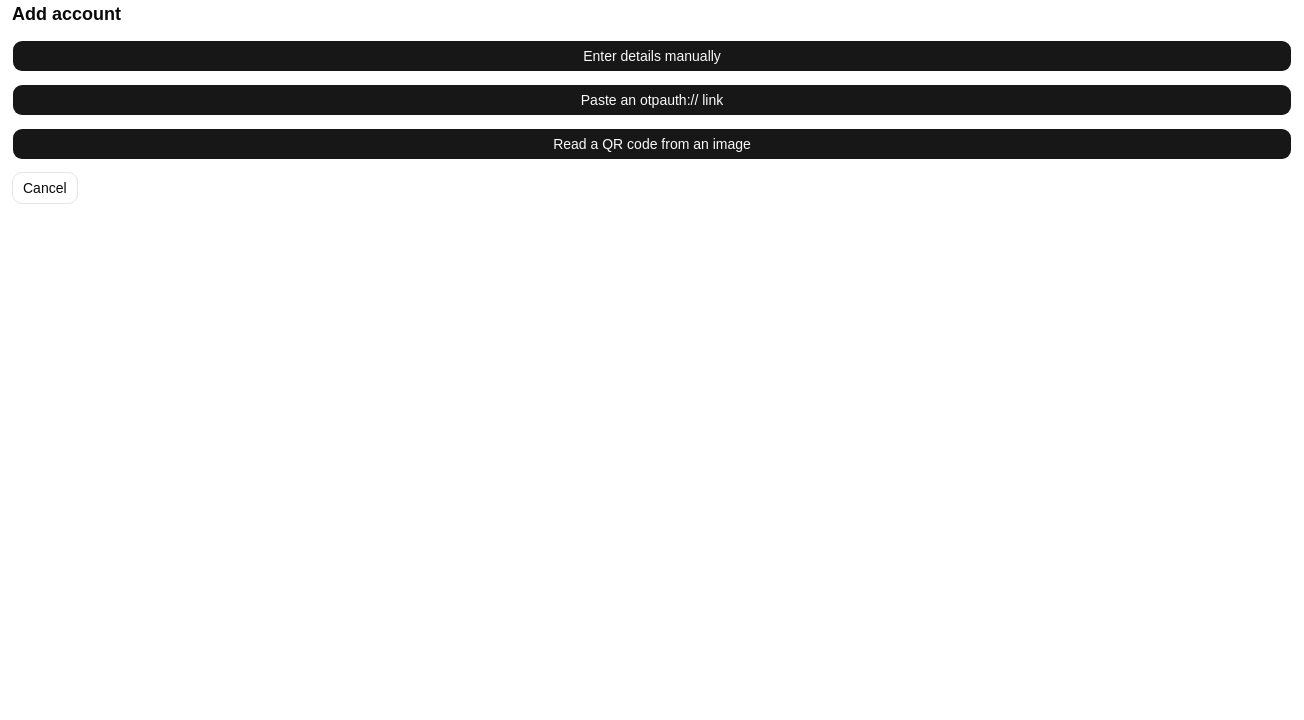
Test: choosing how to add › manual entry opens the plain form and can go back
Click the button "Enter details manually": [652, 56] box [12,40,1292,72]
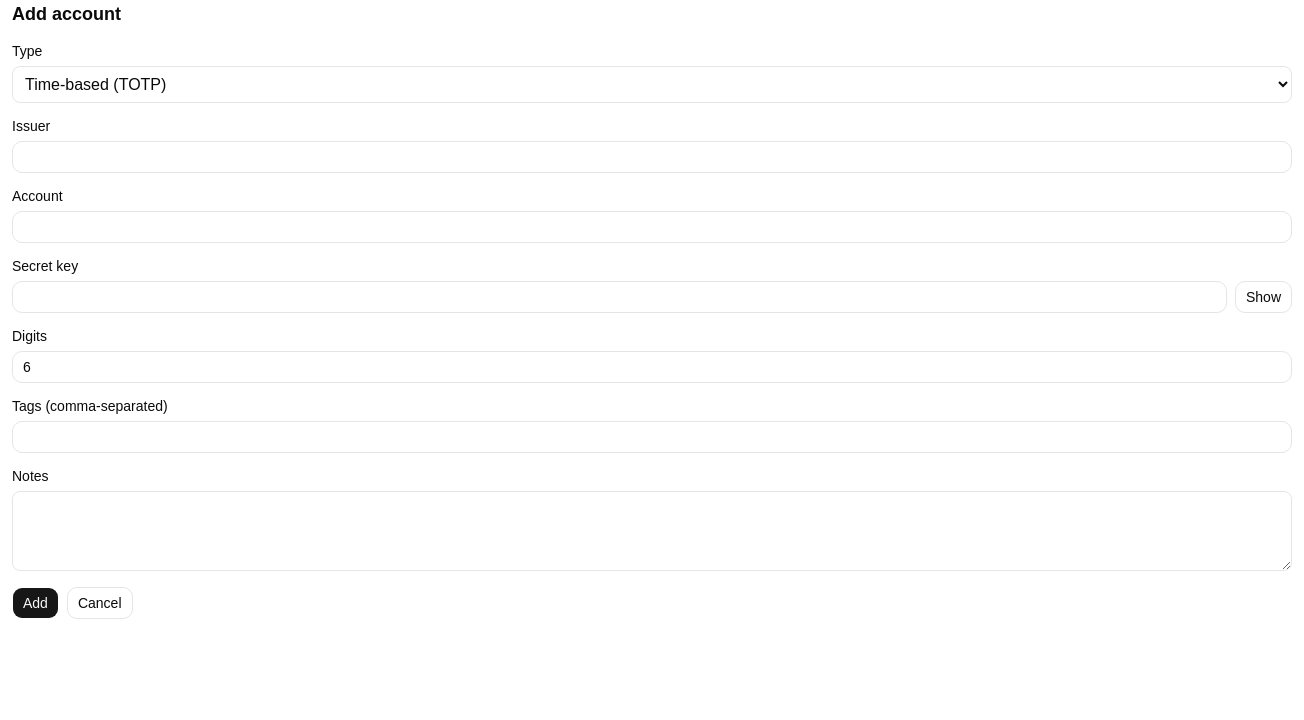
Now the password field labelled "Secret key" is shown, box [12,281,1227,313]
Click the button "Cancel": [100, 603] box [67,587,132,619]
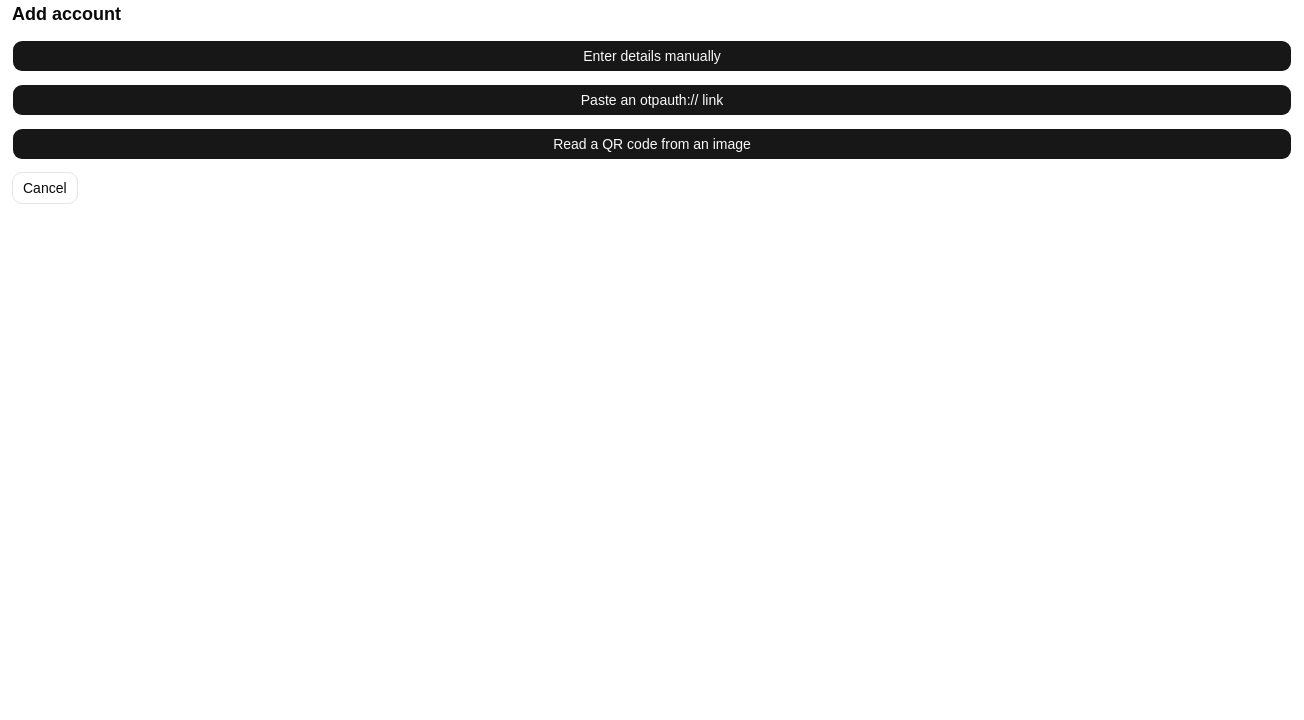
Now the element "Add account" is shown, box [12,0,1292,204]
